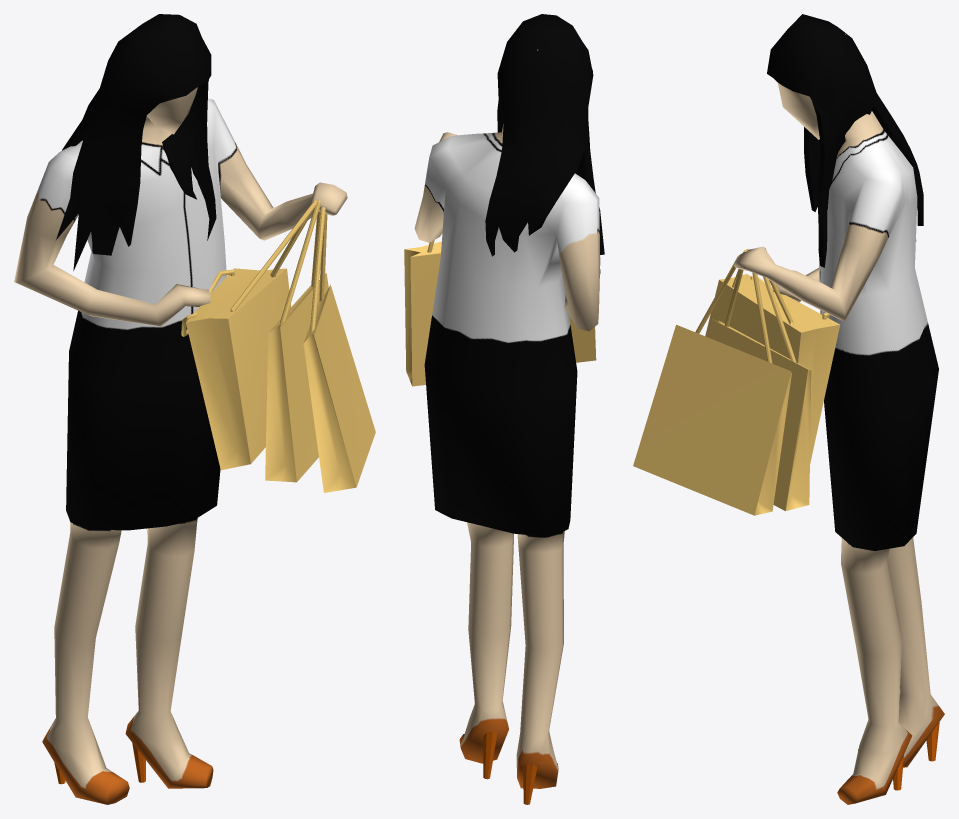
Rendered from low_poly_business_girl_002.glb.
The picture shows the model from 3 angles, left to right: view 1: azimuth 30°, elevation 25°; view 2: azimuth 150°, elevation 25°; view 3: azimuth 270°, elevation 25°; orthographic projection. The views are drawn at different scales.
Parts seen in each view (by area): view 1: Object_2, Object_6, Object_7, Object_5; view 2: Object_2, Object_7, Object_6, Object_3, Object_4; view 3: Object_2, Object_6, Object_7, Object_5.
Boxes of the visible parts, x1=… form: Object_2: x1=14, y1=87, x2=347, y2=804; Object_6: x1=186, y1=268, x2=375, y2=492; Object_7: x1=56, y1=14, x2=216, y2=270; Object_5: x1=230, y1=200, x2=327, y2=332; Object_2: x1=414, y1=49, x2=600, y2=788; Object_7: x1=485, y1=14, x2=604, y2=273; Object_6: x1=404, y1=241, x2=596, y2=386; Object_3: x1=483, y1=731, x2=497, y2=779; Object_4: x1=523, y1=764, x2=537, y2=804; Object_2: x1=734, y1=34, x2=944, y2=804; Object_6: x1=633, y1=274, x2=839, y2=515; Object_7: x1=767, y1=14, x2=923, y2=267; Object_5: x1=695, y1=249, x2=796, y2=363.
Bounding box in the file's own units: 786 × 2135 × 794.
Materials: 7 (1 with a texture image).
